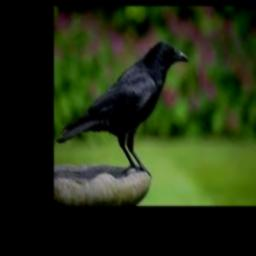Crow: (56, 40, 189, 176)
